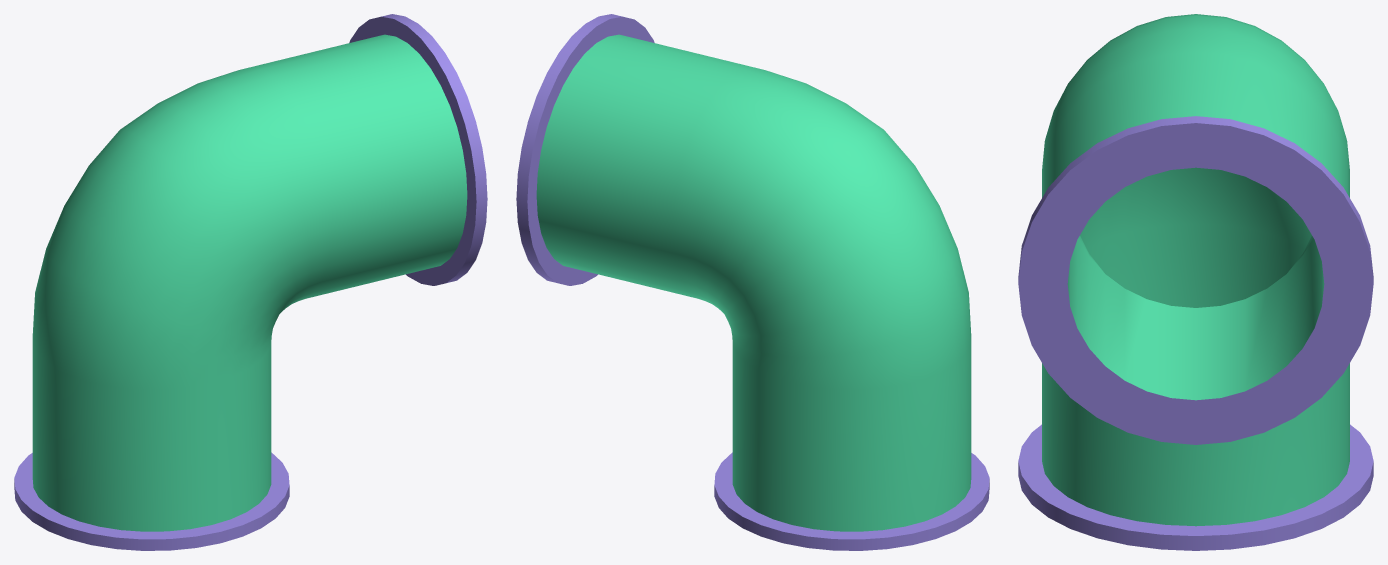
File: PipePlaceholderBend.fbx
3 views of the same model, side by side, from view 1: azimuth 30°, elevation 25°; view 2: azimuth 150°, elevation 25°; view 3: azimuth 270°, elevation 25° (orthographic). The views are drawn at different scales.
Visible parts, largest first — view 1: DistributionPipeBend; view 2: DistributionPipeBend; view 3: DistributionPipeBend.
Boxes of the visible parts, left/top/right/bottom form: DistributionPipeBend: left=14, top=14, right=487, bottom=550; DistributionPipeBend: left=516, top=14, right=989, bottom=550; DistributionPipeBend: left=1018, top=14, right=1373, bottom=550.
Bounding box in the file's own units: 290 × 290 × 179.
